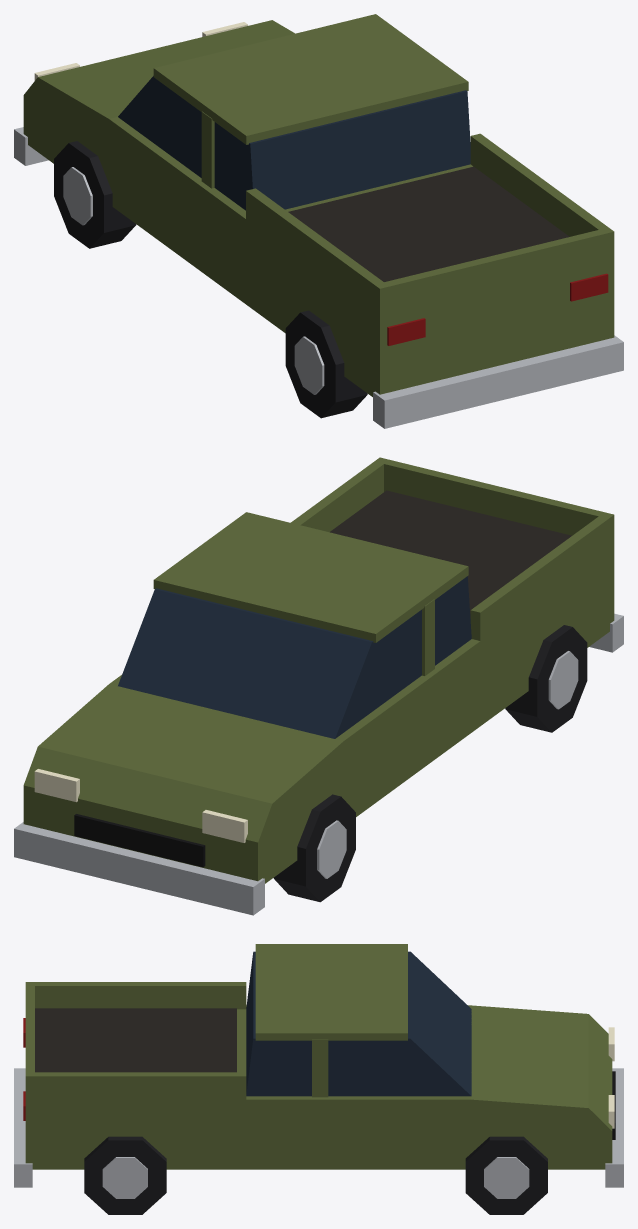
Rendered from CarPickupOlive.obj.
3 renders of one model, top to bottom at view 1: azimuth 30°, elevation 25°; view 2: azimuth 150°, elevation 25°; view 3: azimuth 270°, elevation 25°, orthographic. The views are drawn at different scales.
Visible parts, largest first — view 1: CarPickupOlive; view 2: CarPickupOlive; view 3: CarPickupOlive.
Boxes of the visible parts, left/top/right/bottom form: CarPickupOlive: left=14, top=14, right=623, bottom=428; CarPickupOlive: left=14, top=457, right=623, bottom=915; CarPickupOlive: left=14, top=944, right=623, bottom=1214.
Bounding box in the file's own units: 2.07 × 1.65 × 5.2.
1 material, 1 textured.
